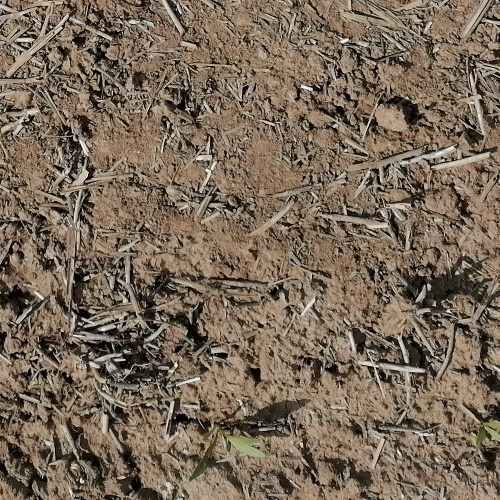beet: (187, 425, 264, 483), (477, 420, 500, 450)
